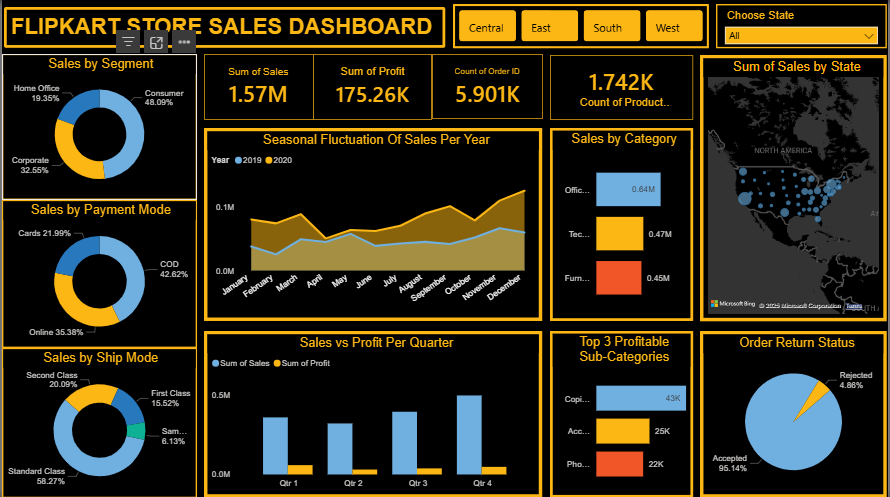

Layout of this report page (visuals, bound fields, positions):
{"tool":"powerbi","page":{"name":"Page 1","canvas":[1280,720],"ordinal":0},"visuals":[{"type":"pieChart","title":"Order Return Status","fields":{"Category":["Flipkart Store Sales Data xlsx - Sheet1 (1) (1).Return_Status"],"Y":["CountNonNull(Flipkart Store Sales Data xlsx - Sheet1 (1) (1).Order ID)"]},"box":[1009.2,478.6,270.4,241.4],"z":0},{"type":"areaChart","title":"Seasonal Fluctuation Of Sales Per Year","fields":{"Category":["Flipkart Store Sales Data xlsx - Sheet1 (1) (1).Order Date.Variation.Date Hierarchy.Month"],"Y":["Sum(Flipkart Store Sales Data xlsx - Sheet1 (1) (1).Sales)"],"Series":["Flipkart Store Sales Data xlsx - Sheet1 (1) (1).Order Date.Variation.Date Hierarchy.Year"]},"box":[292,185.1,488.7,279],"z":1000},{"type":"clusteredColumnChart","title":"Sales vs Profit Per Quarter","fields":{"Category":["Flipkart Store Sales Data xlsx - Sheet1 (1) (1).Order Date.Variation.Date Hierarchy.Quarter"],"Y":["Sum(Flipkart Store Sales Data xlsx - Sheet1 (1) (1).Sales)","Sum(Flipkart Store Sales Data xlsx - Sheet1 (1) (1).Profit)"]},"box":[292,478.6,488.7,241.4],"z":2000},{"type":"map","fields":{"Category":["Flipkart Store Sales Data xlsx - Sheet1 (1) (1).State"],"Size":["Sum(Flipkart Store Sales Data xlsx - Sheet1 (1) (1).Sales)"]},"box":[1009.2,79.5,270.4,384.6],"z":3000},{"type":"textbox","box":[2.9,10.1,637.6,59.3],"z":4000},{"type":"donutChart","title":"Sales by Segment","fields":{"Y":["Sum(Flipkart Store Sales Data xlsx - Sheet1 (1) (1).Sales)"],"Category":["Flipkart Store Sales Data xlsx - Sheet1 (1) (1).Segment"]},"box":[0,78.1,281.9,211.1],"z":5000},{"type":"donutChart","title":"Sales by Payment Mode","fields":{"Y":["Sum(Flipkart Store Sales Data xlsx - Sheet1 (1) (1).Sales)"],"Category":["Flipkart Store Sales Data xlsx - Sheet1 (1) (1).Payment Mode"]},"box":[0,289.2,281.9,214],"z":6000},{"type":"donutChart","title":"Sales by Ship Mode","fields":{"Y":["Sum(Flipkart Store Sales Data xlsx - Sheet1 (1) (1).Sales)"],"Category":["Flipkart Store Sales Data xlsx - Sheet1 (1) (1).Ship Mode"]},"box":[0,503.1,281.9,216.9],"z":7000},{"type":"barChart","title":"Sales by Category","fields":{"Category":["Flipkart Store Sales Data xlsx - Sheet1 (1) (1).Category"],"Y":["Sum(Flipkart Store Sales Data xlsx - Sheet1 (1) (1).Sales)"]},"box":[792.3,185.1,206.7,279],"z":8000},{"type":"barChart","title":"Top 3 Profitable Sub-Categories","fields":{"Y":["Sum(Flipkart Store Sales Data xlsx - Sheet1 (1) (1).Profit)"],"Category":["Flipkart Store Sales Data xlsx - Sheet1 (1) (1).Sub-Category"]},"box":[792.3,478.6,206.7,241.4],"z":9000},{"type":"advancedSlicerVisual","fields":{"Values":["Flipkart Store Sales Data xlsx - Sheet1 (1) (1).Region"]},"box":[652,5.8,370.1,63.6],"z":10000},{"type":"slicer","fields":{"Values":["Flipkart Store Sales Data xlsx - Sheet1 (1) (1).State"]},"box":[1032.3,5.8,247.2,63.6],"z":11000},{"type":"cardVisual","fields":{"Data":["Sum(Flipkart Store Sales Data xlsx - Sheet1 (1) (1).Sales)"]},"box":[292,78.1,157.6,95.4],"z":12000},{"type":"cardVisual","fields":{"Data":["Sum(Flipkart Store Sales Data xlsx - Sheet1 (1) (1).Profit)"]},"box":[449.6,78.1,172,95.4],"z":13000},{"type":"cardVisual","fields":{"Data":["CountNonNull(Flipkart Store Sales Data xlsx - Sheet1 (1) (1).Order ID)"]},"box":[621.4,78.6,160,94.3],"z":14000},{"type":"cardVisual","fields":{"Data":["Count(Flipkart Store Sales Data xlsx - Sheet1 (1) (1).Product Name)"]},"box":[792.3,79.5,206.7,94],"z":15000}]}

Visuals, with their boxes in screenshot pixels (x1, y1, x2, y2), scaled from the page's 1280x720 canvas onto the 890x497 screenshot:
"Order Return Status" pieChart: Rect(702, 330, 889, 496)
"Seasonal Fluctuation Of Sales Per Year" areaChart: Rect(203, 128, 543, 320)
"Sales vs Profit Per Quarter" clusteredColumnChart: Rect(203, 330, 543, 496)
map - Flipkart Store Sales Data xlsx - Sheet1 (1) (1).State x Sum(Flipkart Store Sales Data xlsx - Sheet1 (1) (1).Sales): Rect(702, 55, 889, 320)
textbox: Rect(2, 7, 445, 48)
"Sales by Segment" donutChart: Rect(0, 54, 196, 200)
"Sales by Payment Mode" donutChart: Rect(0, 200, 196, 347)
"Sales by Ship Mode" donutChart: Rect(0, 347, 196, 496)
"Sales by Category" barChart: Rect(551, 128, 695, 320)
"Top 3 Profitable Sub-Categories" barChart: Rect(551, 330, 695, 496)
advancedSlicerVisual - Flipkart Store Sales Data xlsx - Sheet1 (1) (1).Region: Rect(453, 4, 711, 48)
slicer - Flipkart Store Sales Data xlsx - Sheet1 (1) (1).State: Rect(718, 4, 889, 48)
cardVisual - Sum(Flipkart Store Sales Data xlsx - Sheet1 (1) (1).Sales): Rect(203, 54, 313, 120)
cardVisual - Sum(Flipkart Store Sales Data xlsx - Sheet1 (1) (1).Profit): Rect(313, 54, 432, 120)
cardVisual - CountNonNull(Flipkart Store Sales Data xlsx - Sheet1 (1) (1).Order ID): Rect(432, 54, 543, 119)
cardVisual - Count(Flipkart Store Sales Data xlsx - Sheet1 (1) (1).Product Name): Rect(551, 55, 695, 120)
